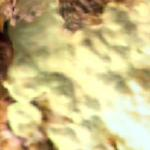alive: (4, 9, 147, 145)
